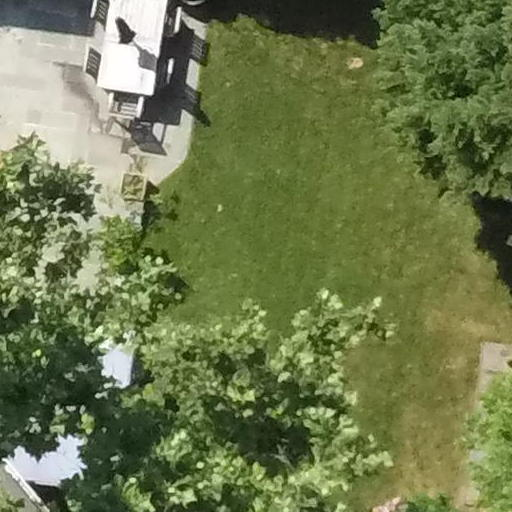table: (83, 1, 163, 104)
